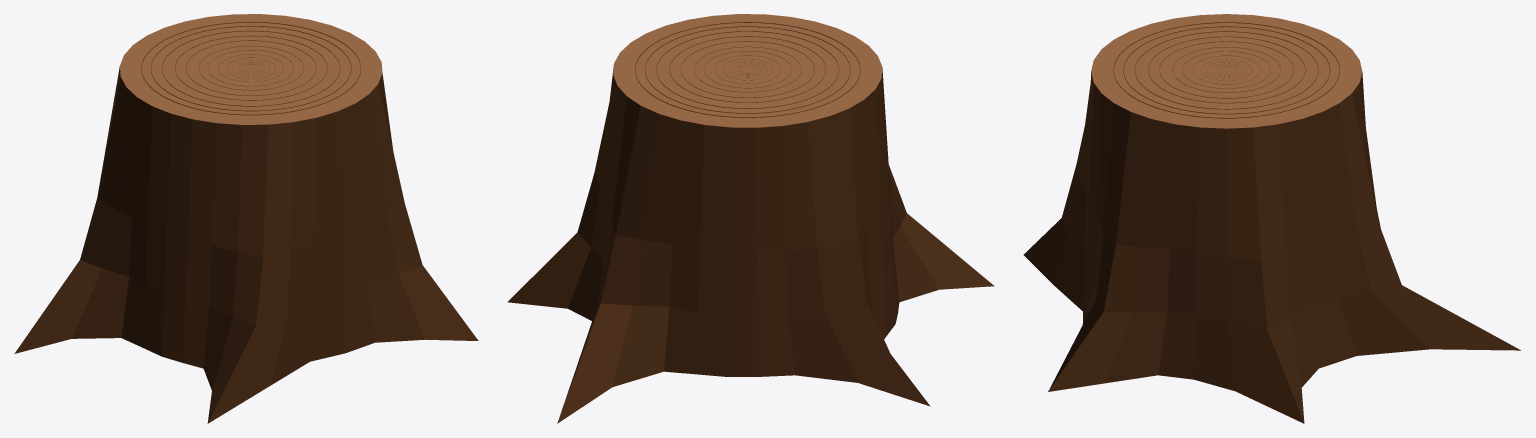
File: stump.glb
3 views of the same model, side by side, from view 1: azimuth 30°, elevation 25°; view 2: azimuth 150°, elevation 25°; view 3: azimuth 270°, elevation 25° (orthographic). The views are drawn at different scales.
Parts seen in each view (by area): view 1: stump, rings; view 2: stump, rings; view 3: stump, rings.
Boxes of the visible parts, x1,y1,x2,y2 form: stump: (14, 14, 478, 423); rings: (141, 22, 360, 115); stump: (507, 14, 994, 423); rings: (635, 22, 860, 117); stump: (1023, 14, 1520, 423); rings: (1113, 22, 1339, 118).
Bounding box in the file's own units: 2.26 × 1.37 × 2.34.
